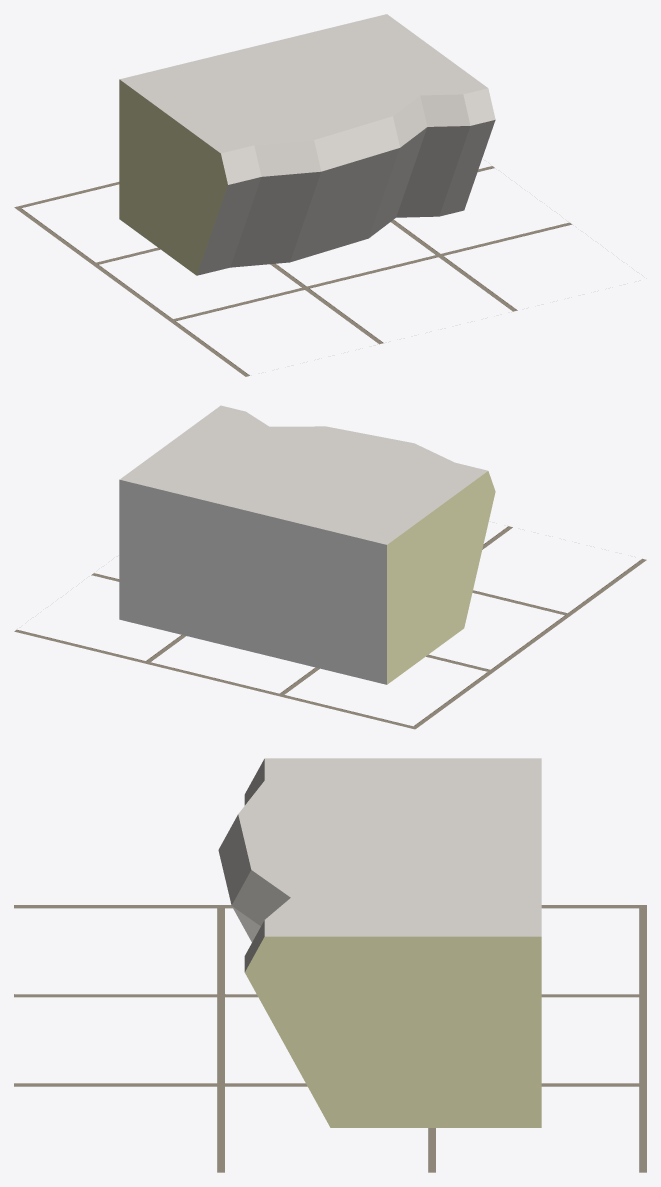
File: Cracked_Straight_2x2_1_Top.glb
The picture shows the model from 3 angles, top to bottom: view 1: azimuth 30°, elevation 25°; view 2: azimuth 150°, elevation 25°; view 3: azimuth 270°, elevation 25°; orthographic projection. The views are drawn at different scales.
Parts seen in each view (by area): view 1: Cracked_Straight_2x2_1_Top, Floor; view 2: Cracked_Straight_2x2_1_Top, Floor; view 3: Cracked_Straight_2x2_1_Top, Floor.
Boxes of the visible parts, x1,y1,x2,y2 form: Cracked_Straight_2x2_1_Top: (119,14,495,275); Floor: (14,166,572,376); Cracked_Straight_2x2_1_Top: (119,405,495,684); Floor: (14,526,646,729); Cracked_Straight_2x2_1_Top: (218,758,541,1127); Floor: (14,905,646,1172).
Bounding box in the file's own units: 300 × 100 × 300.
4 materials, 1 textured.
